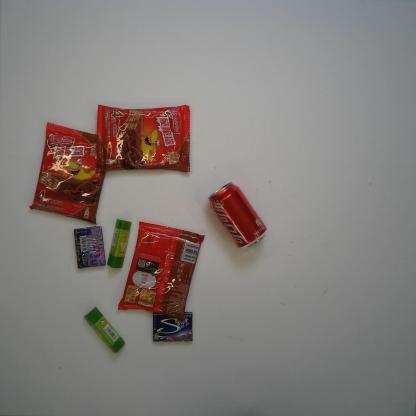Dessert: (116, 221, 204, 321), (29, 122, 106, 225), (96, 104, 191, 172)
Drink: (208, 181, 267, 252)
Gum: (74, 226, 107, 268), (152, 312, 194, 342)
Stationery: (84, 307, 126, 353), (107, 218, 131, 268)
